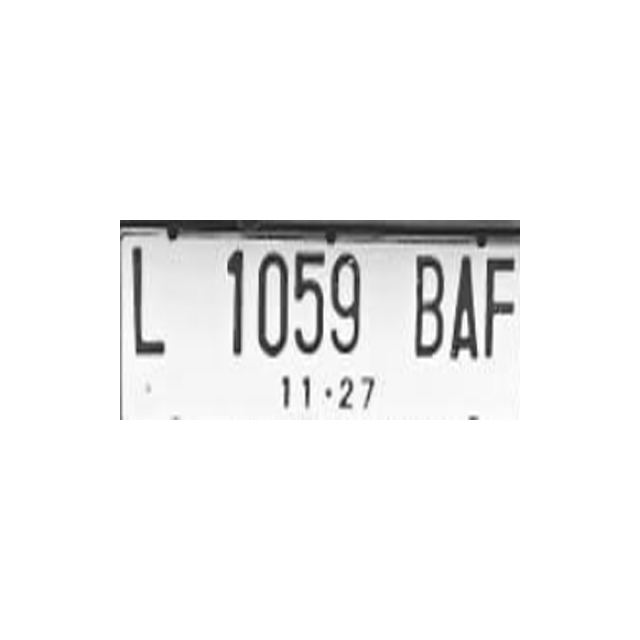contain: (128, 239, 172, 365), (204, 241, 248, 367), (247, 242, 291, 368), (286, 239, 330, 365), (325, 242, 369, 368), (405, 250, 449, 376), (447, 252, 483, 378), (482, 249, 518, 375)
